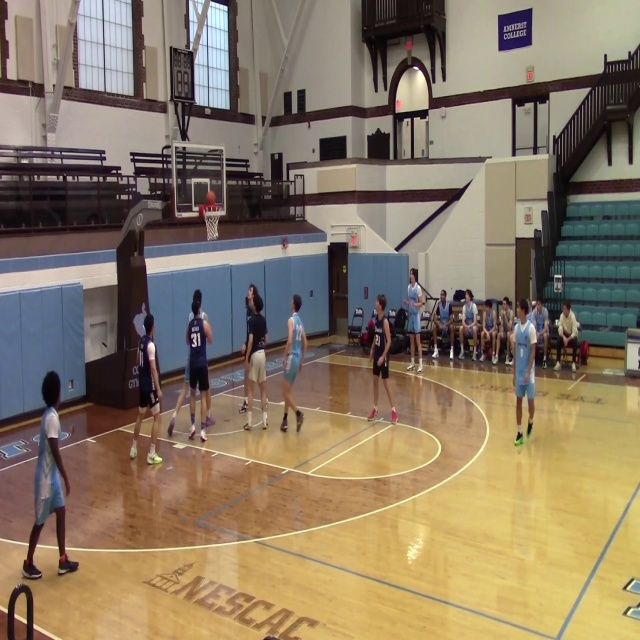Basketball: (205, 191, 216, 206), (377, 357, 384, 366)
